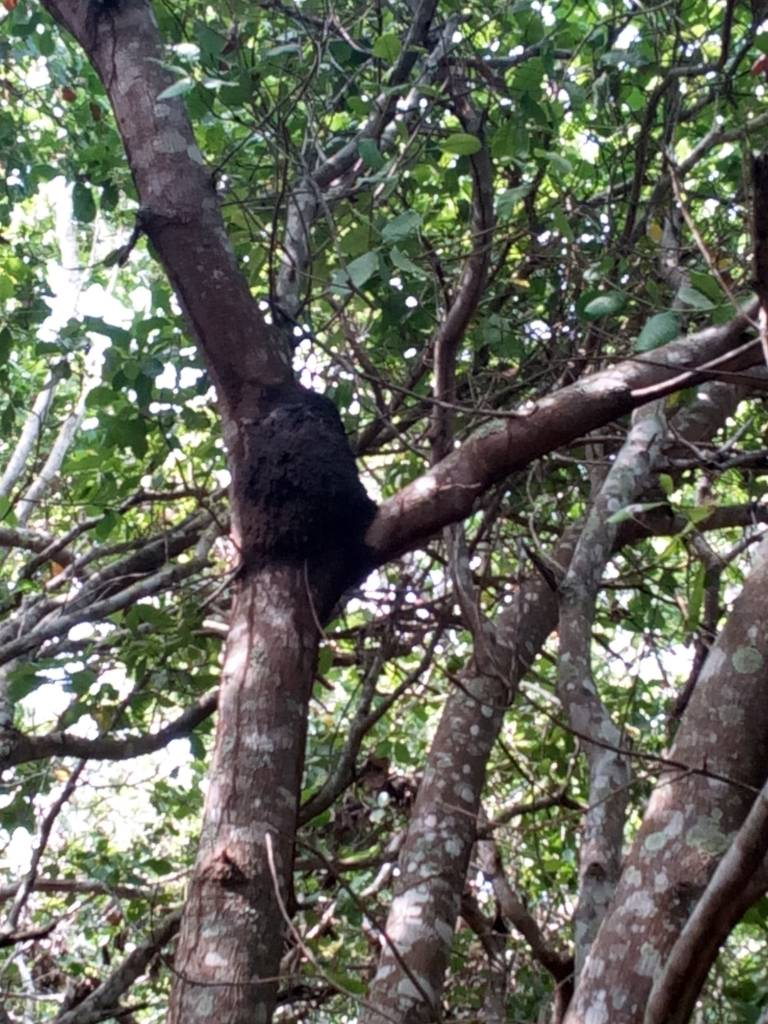Termites: (236, 389, 363, 586)
